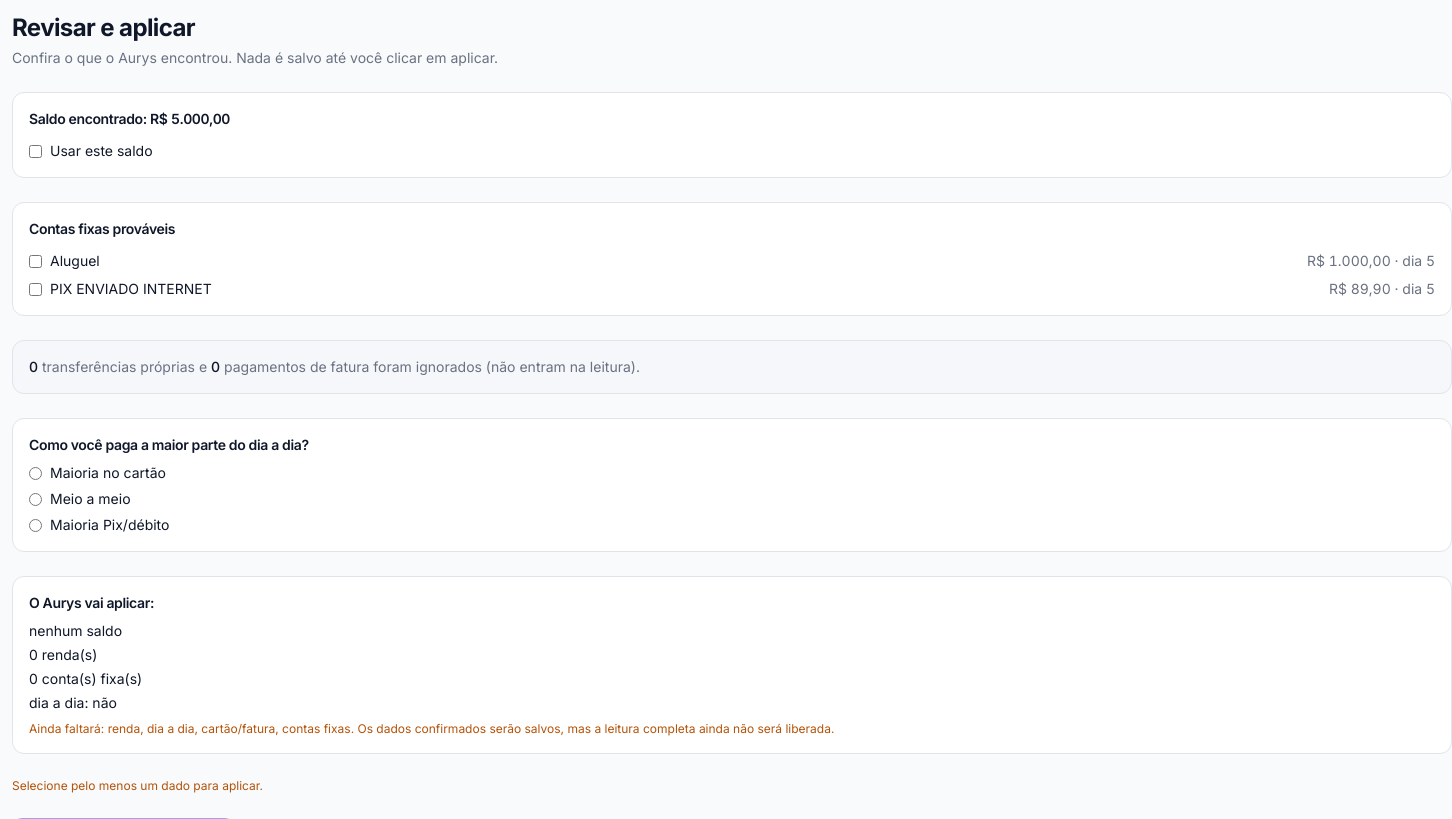
Test: integração: escolhas da revisão refletem no preview › saldo e fixas reagem aos cliques (nenhum saldo/0 → 1 saldo/2 fixas → …)
The width and height of the screenshot is (1452, 819).
Expected: the list item "nenhum saldo" is shown, [29, 622, 122, 639]
Expected: the list item "0 conta(s) fixa(s)" is shown, [29, 670, 142, 687]
// Marca "Usar este saldo" → ainda sem alvo → segue nenhum saldo.
Click the checkbox labelled "Usar este saldo": (36, 151) [29, 144, 42, 158]
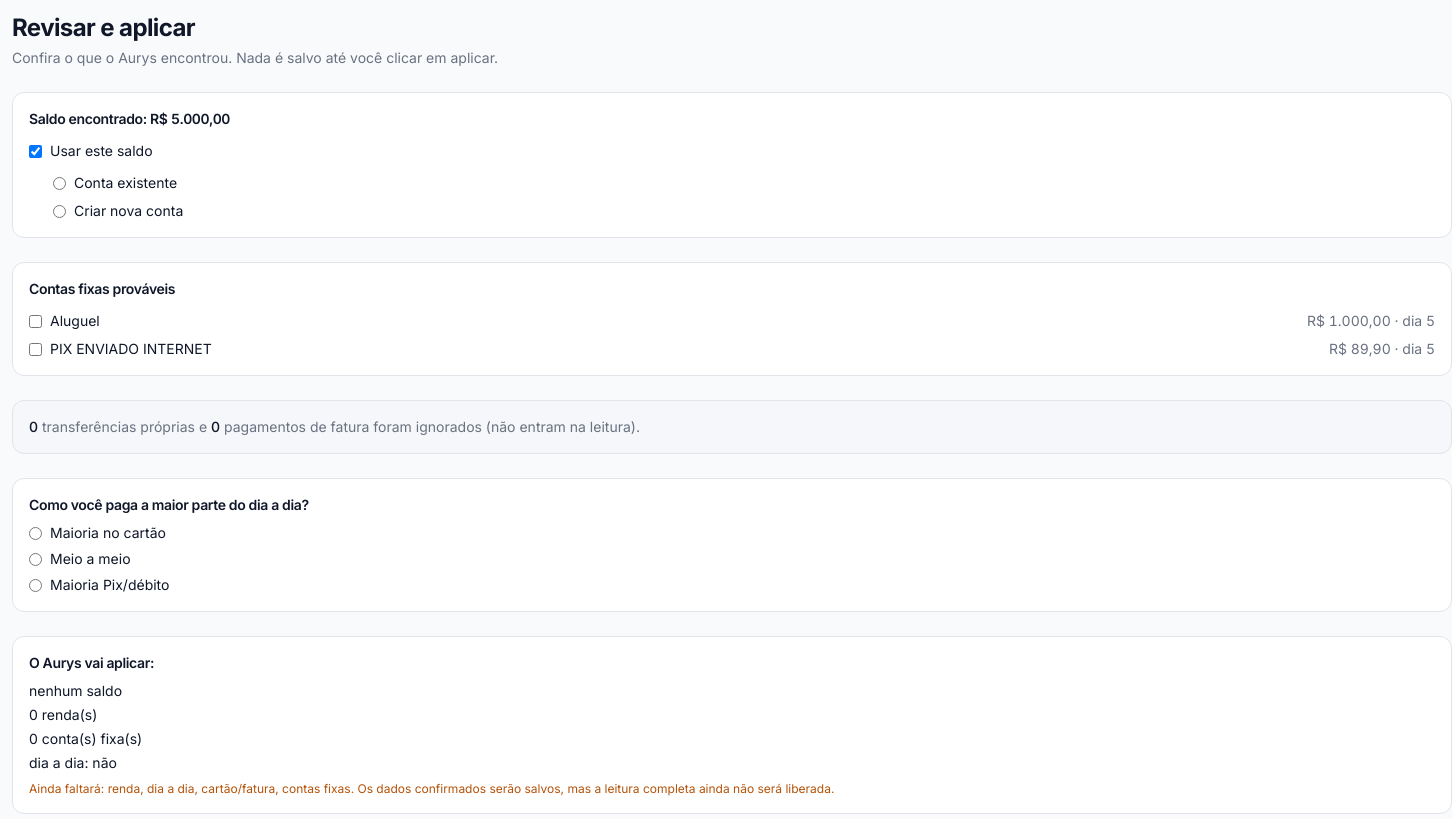
Expected: the list item "nenhum saldo" is shown, [29, 682, 122, 699]
// Escolhe "Conta existente" (auto-seleciona a primeira conta) → 1 saldo.
Click the radio button labelled "Conta existente": (60, 183) [53, 176, 66, 190]
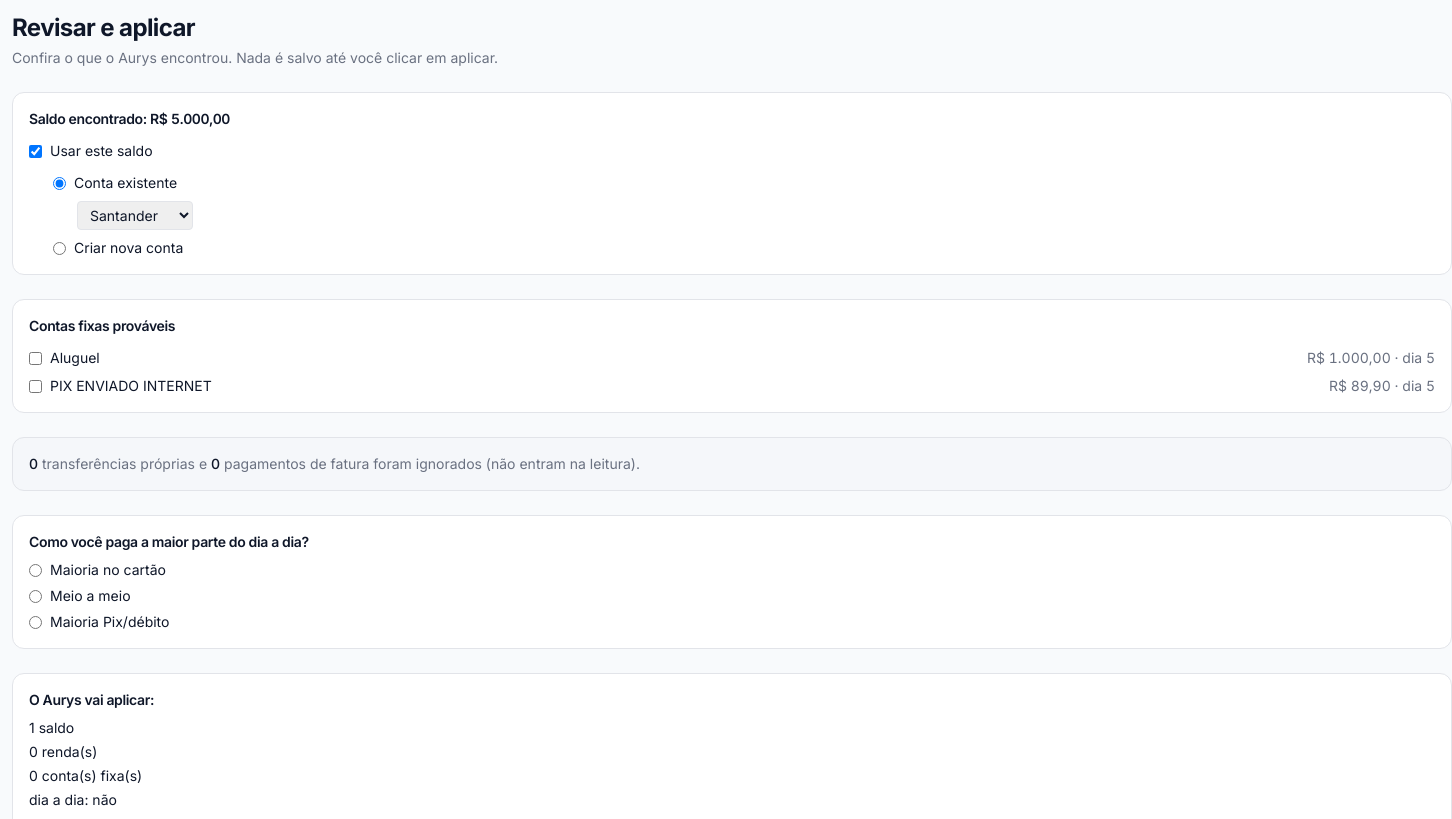
Result: the list item "1 saldo" is shown at [29, 719, 74, 736]
// Marca fixa A (Aluguel) → 1 fixa.
Click the checkbox labelled "Aluguel": (36, 358) [29, 352, 42, 364]
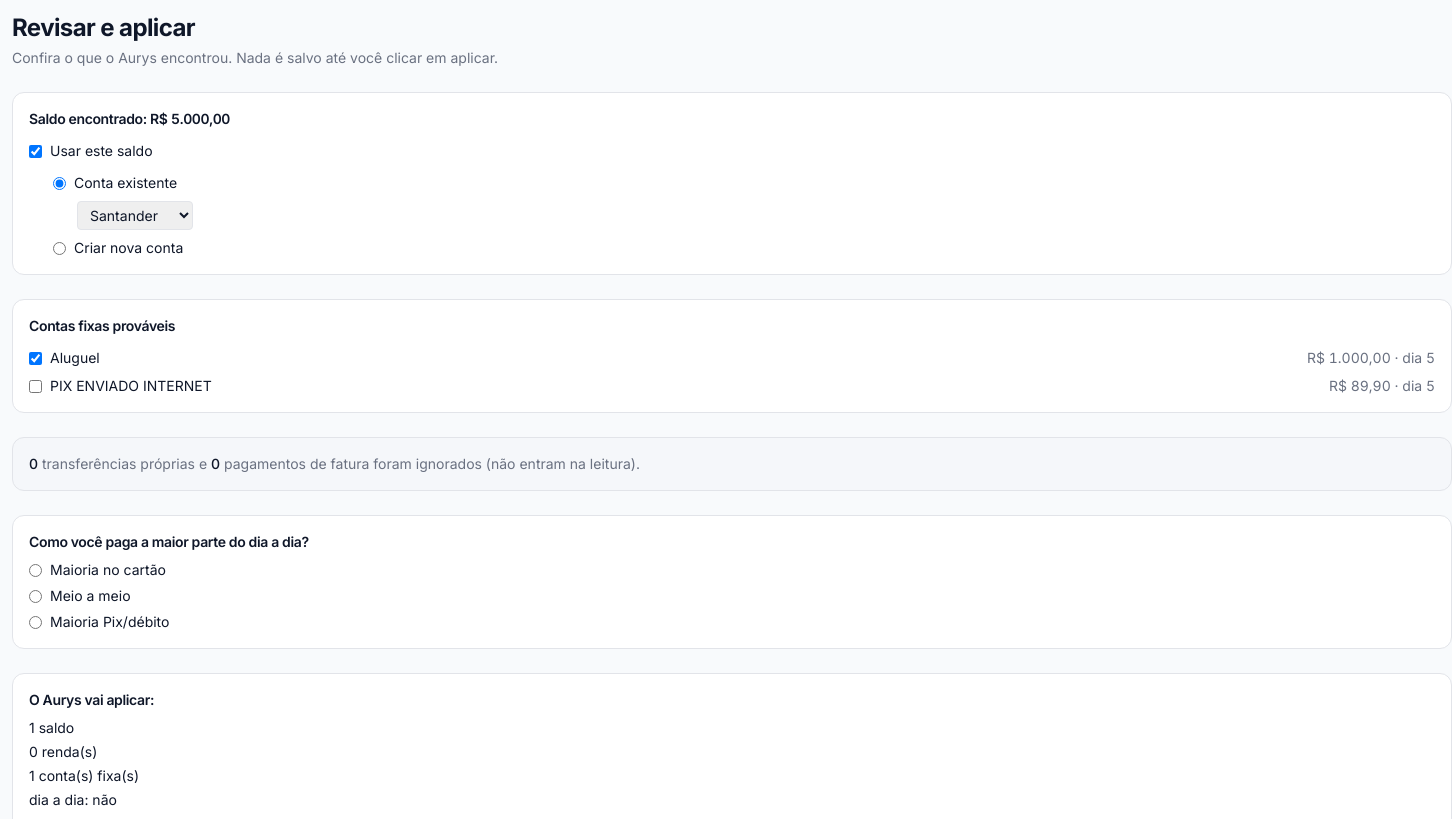
Result: the list item "1 conta(s) fixa(s)" is shown at [29, 767, 139, 784]
// Marca fixa B (Internet) → 2 fixas.
Click the checkbox labelled "PIX ENVIADO INTERNET": (36, 386) [29, 380, 42, 392]
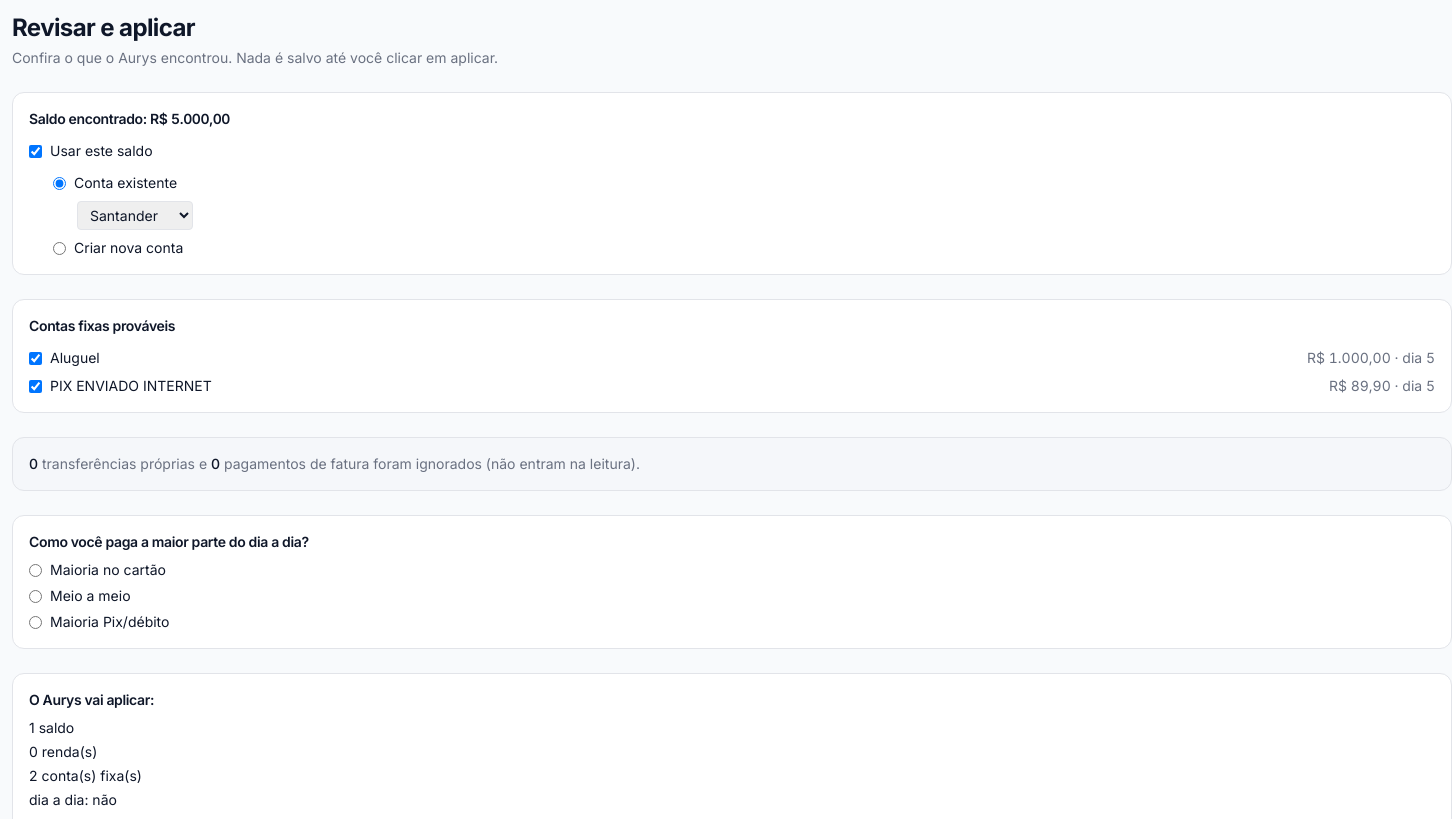
Result: the list item "2 conta(s) fixa(s)" is shown at [29, 767, 142, 784]
// Desmarca fixa A → 1 fixa.
Click the checkbox labelled "Aluguel": (36, 358) [29, 352, 42, 364]
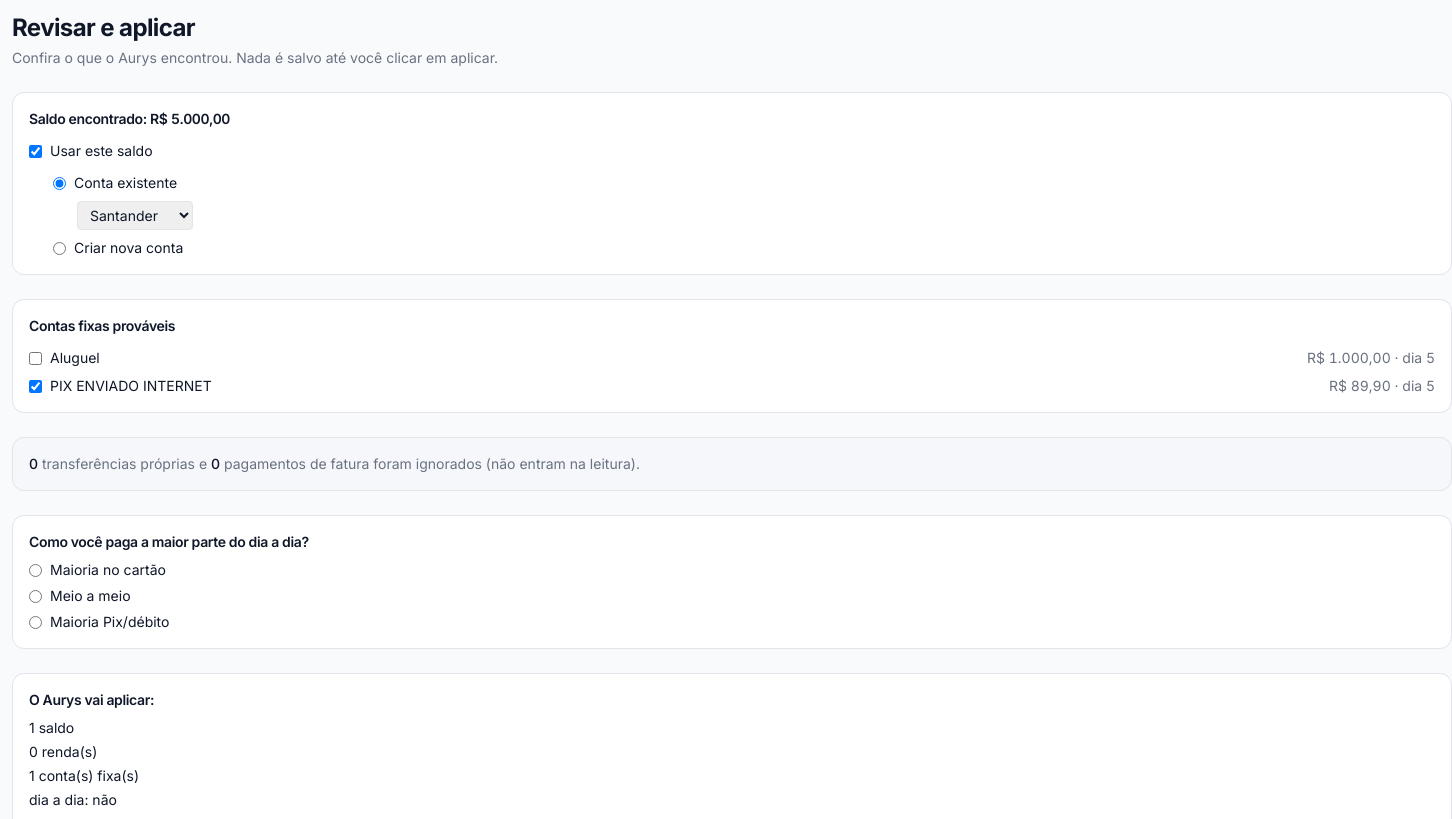
Result: the list item "1 conta(s) fixa(s)" is shown at [29, 767, 139, 784]
// Desmarca "Usar este saldo" → nenhum saldo (fixa segue 1).
Click the checkbox labelled "Usar este saldo": (36, 151) [29, 144, 42, 158]
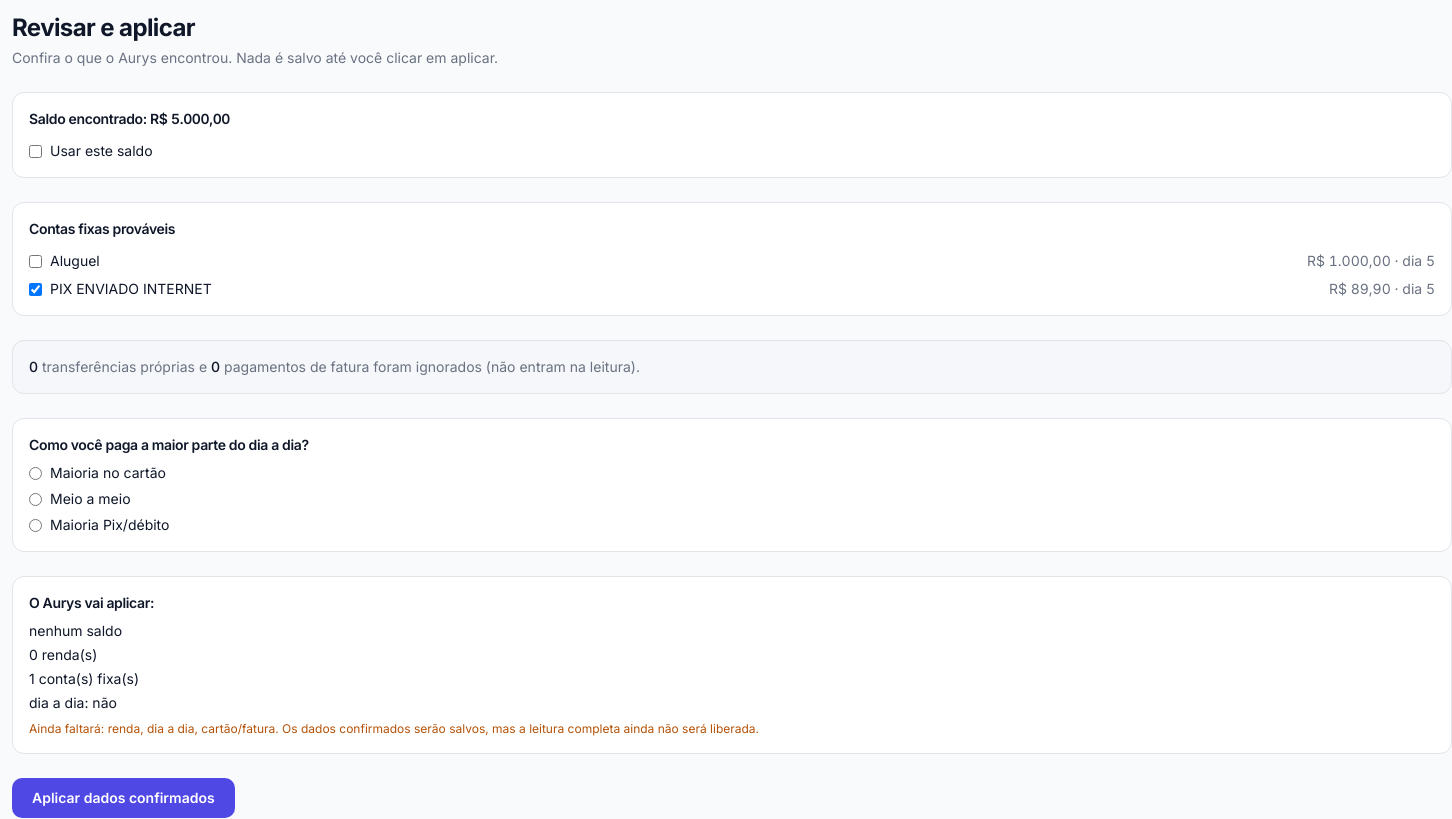
Result: the list item "1 conta(s) fixa(s)" is shown at [29, 670, 139, 687]
Result: the list item "nenhum saldo" is shown at [29, 622, 122, 639]
